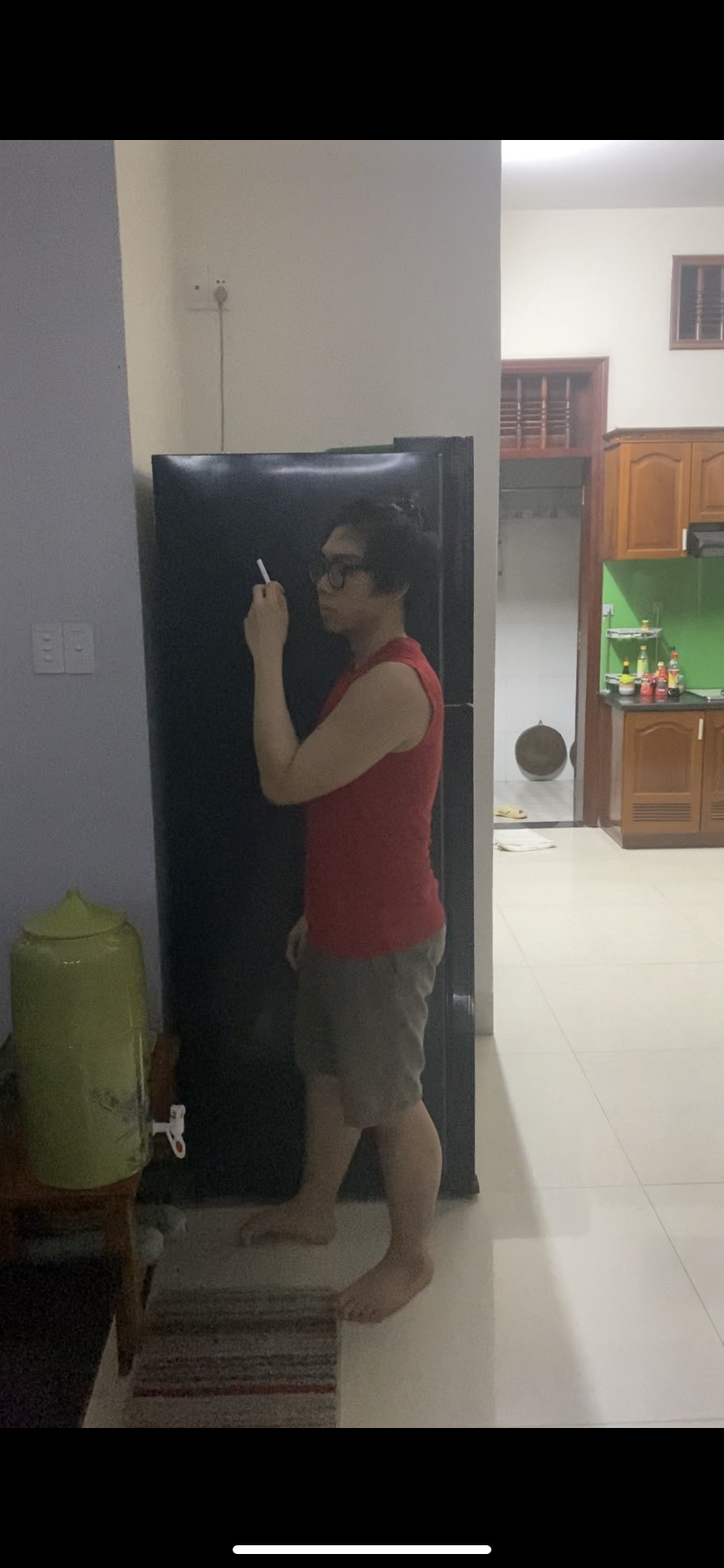cigarette: (252, 556, 274, 584)
person: (245, 495, 449, 1326)
